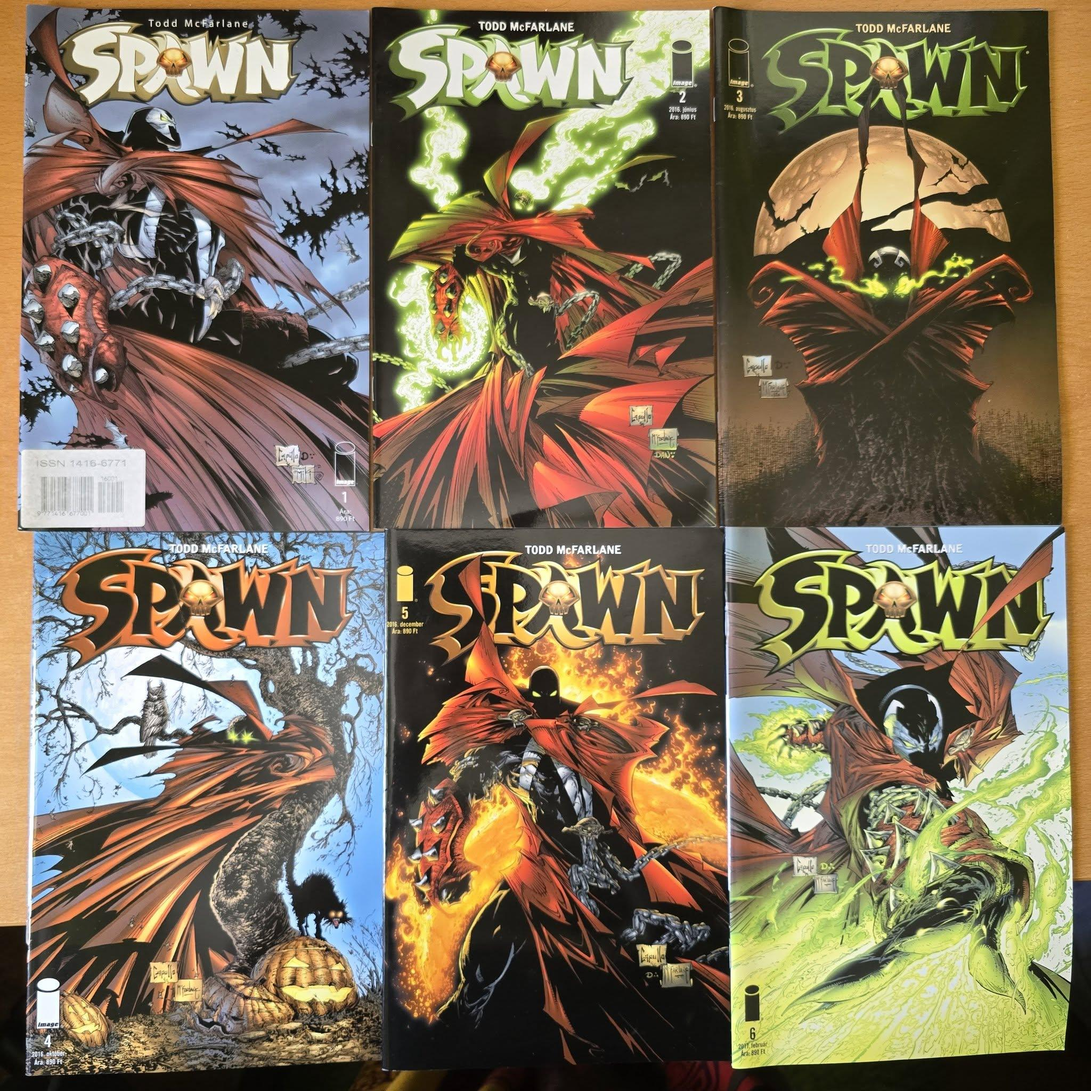comic: (27, 530, 387, 1078), (378, 528, 730, 1068), (726, 524, 1074, 1067), (21, 6, 372, 532), (713, 4, 1061, 528), (370, 7, 717, 529)
